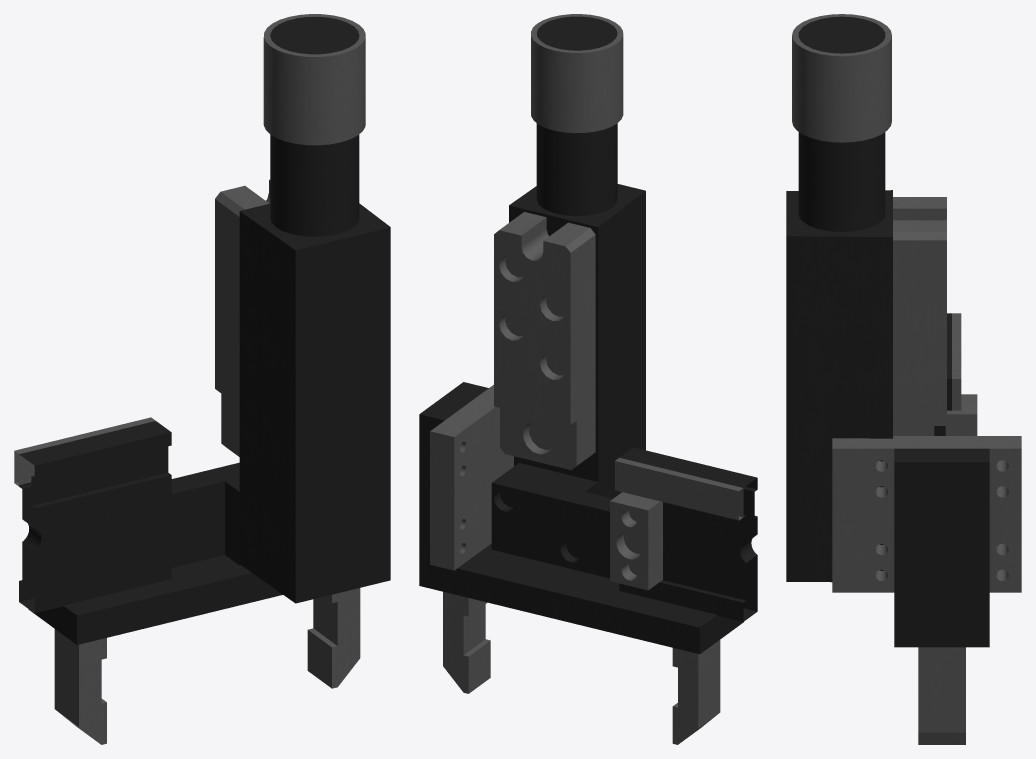
Rendered from CollectionStation_Cube01.glb.
3 renders of one model, left to right at view 1: azimuth 30°, elevation 25°; view 2: azimuth 150°, elevation 25°; view 3: azimuth 270°, elevation 25°, orthographic. The views are drawn at different scales.
Parts seen in each view (by area): view 1: color[24]; view 2: color[24]; view 3: color[24].
Boxes of the visible parts, <box> form: color[24]: <box>14,14,390,744</box>; color[24]: <box>419,14,757,744</box>; color[24]: <box>786,14,1021,744</box>.
Bounding box in the file's own units: 0.1202 × 0.2363 × 0.074.
2 materials, 2 textured.
